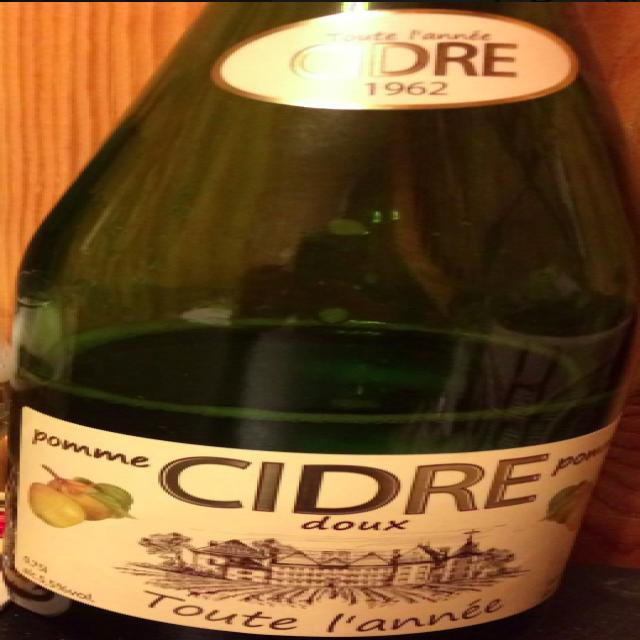Toute L-Annee Doux Cerise: (2, 0, 640, 640)
